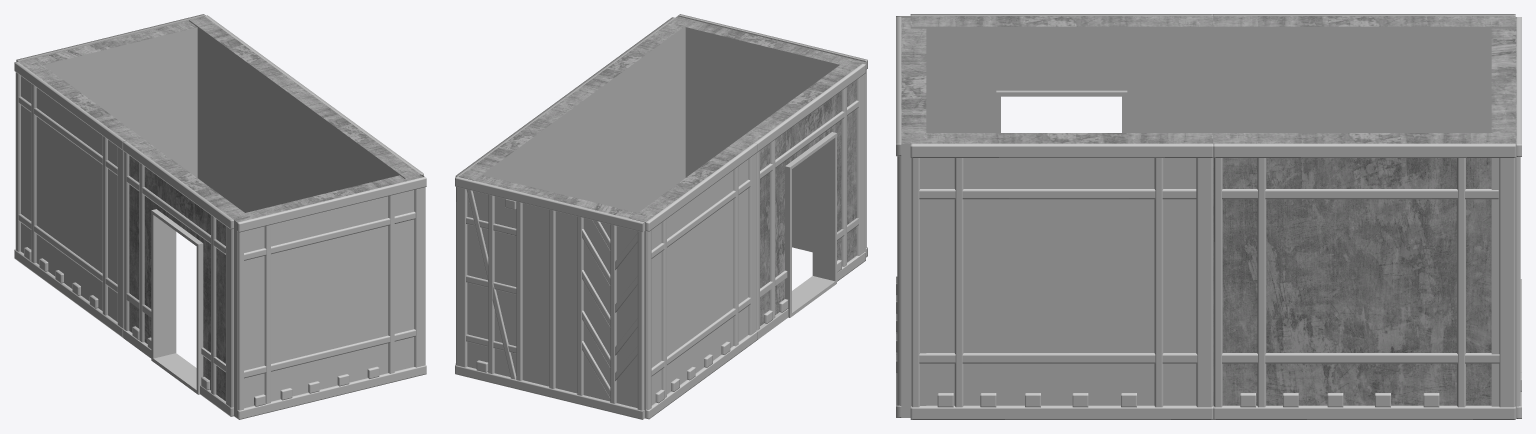
Rendered from SM_House1stFloor05.FBX.
3 renders of one model, left to right at view 1: azimuth 30°, elevation 25°; view 2: azimuth 150°, elevation 25°; view 3: azimuth 270°, elevation 25°, orthographic. The views are drawn at different scales.
Visible parts, largest first — view 1: SM_House1stFloor05; view 2: SM_House1stFloor05; view 3: SM_House1stFloor05.
Boxes of the visible parts, left/top/right/bottom form: SM_House1stFloor05: left=14, top=14, right=426, bottom=419; SM_House1stFloor05: left=455, top=14, right=867, bottom=419; SM_House1stFloor05: left=896, top=14, right=1521, bottom=419.
Size of the model in its own units: 312 by 621 by 300.
